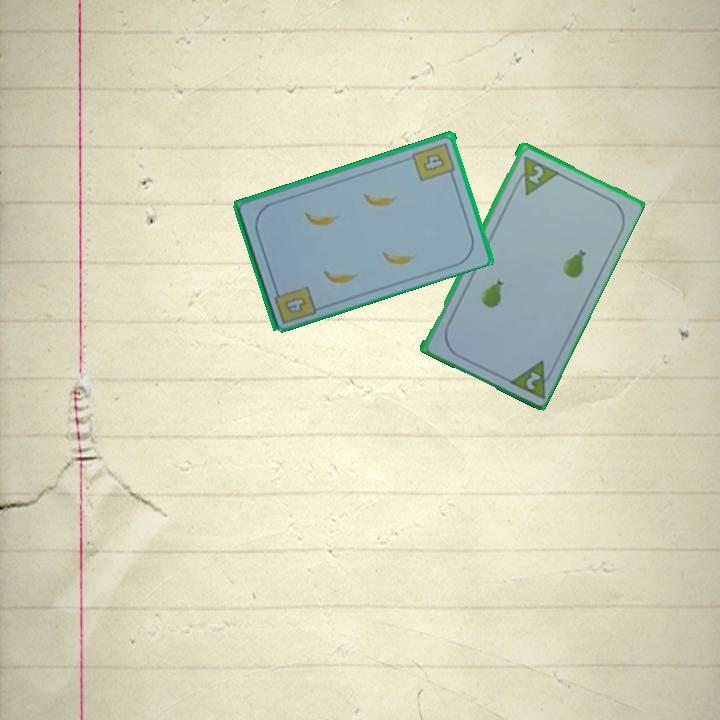2p: (510, 151, 560, 198), (522, 368, 543, 392)
4b: (409, 139, 458, 184), (270, 282, 319, 326)
